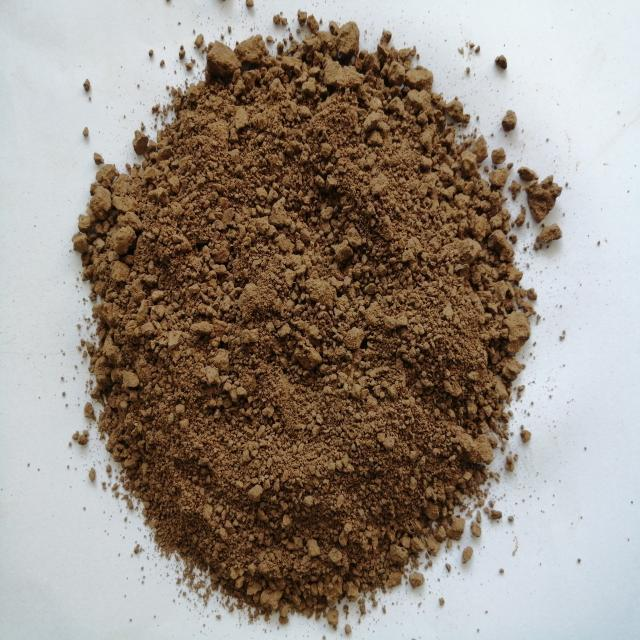soil: (154, 152, 467, 520)
